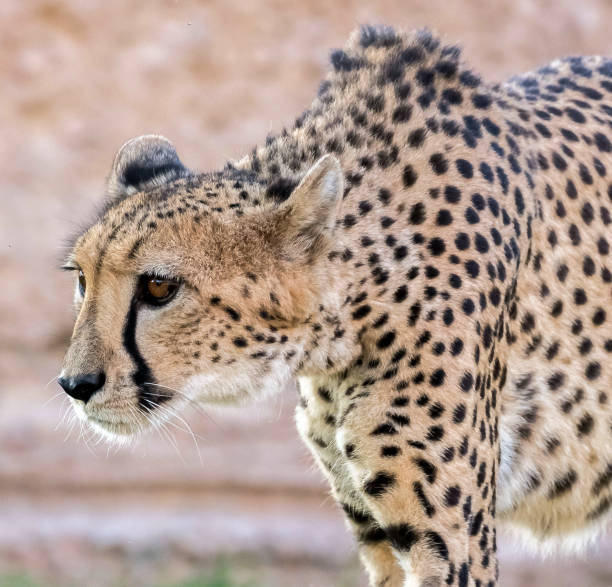cheetah: (43, 112, 364, 469)
